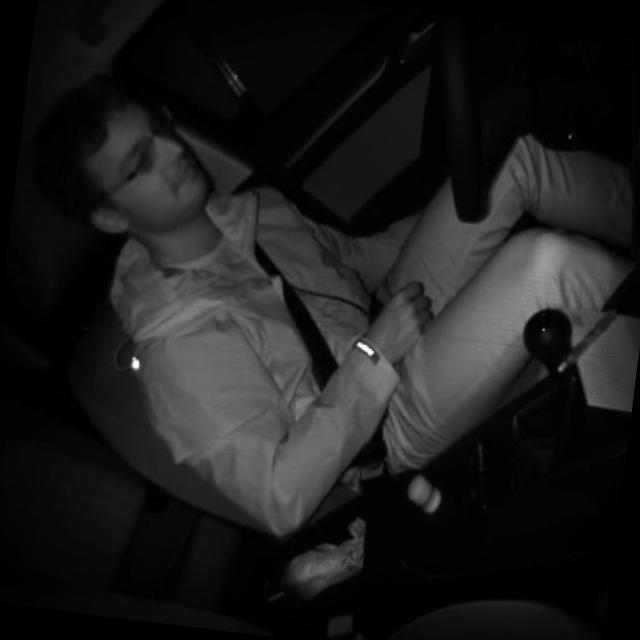pen: (555, 296, 622, 381)
